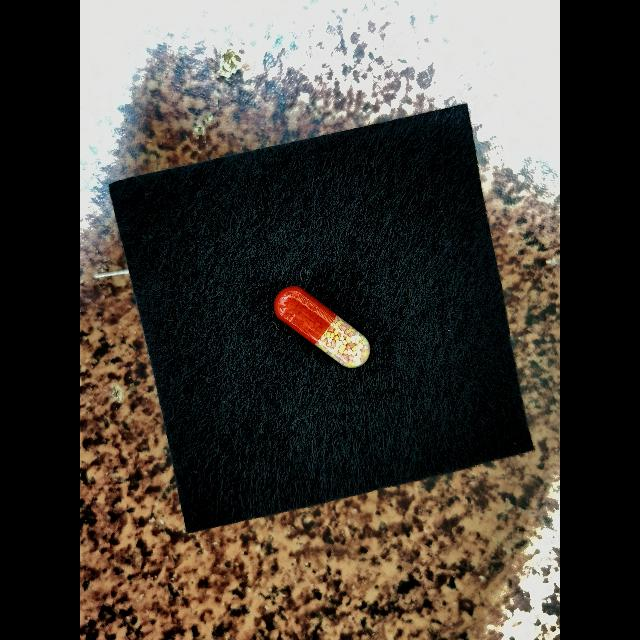Intact Capsule: (274, 286, 370, 368)
